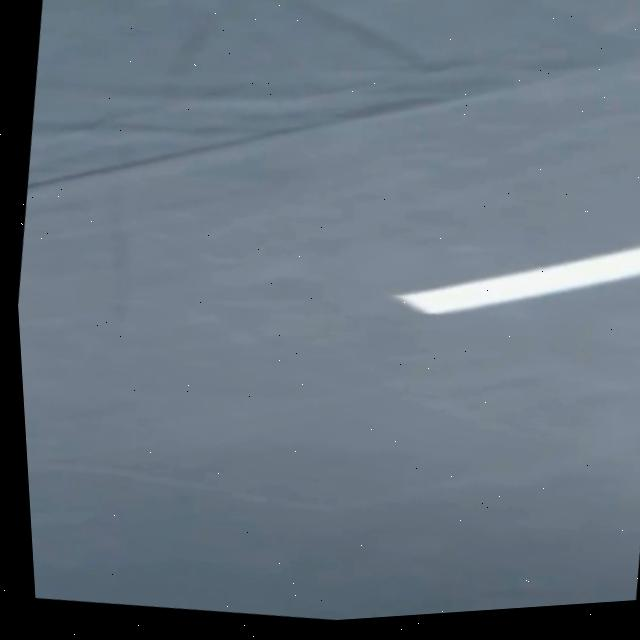center: (394, 245, 640, 314)
